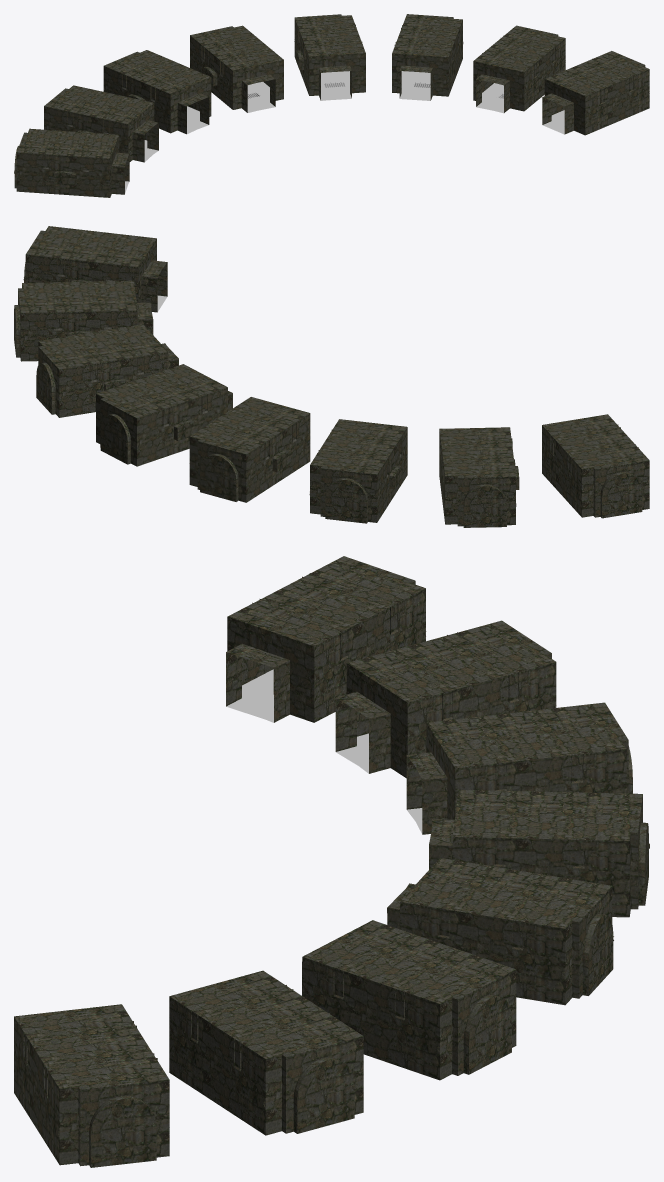
Rendered from Room6.fbx.
3 renders of one model, top to bottom at view 1: azimuth 30°, elevation 25°; view 2: azimuth 150°, elevation 25°; view 3: azimuth 270°, elevation 25°, orthographic. The views are drawn at different scales.
Visible parts, largest first — view 1: Room6; view 2: Room6; view 3: Room6.
Part boxes in pixels (bbox=[...]): Room6: bbox=[14, 14, 649, 197]; Room6: bbox=[14, 226, 649, 527]; Room6: bbox=[14, 556, 649, 1167].
Size of the model in its own units: 6653 by 498 by 3339.
